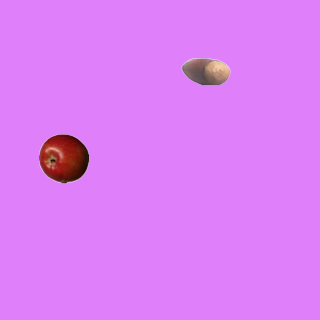Apple Braeburn: (38, 133, 88, 183)
Hazelnut: (180, 46, 230, 96)
